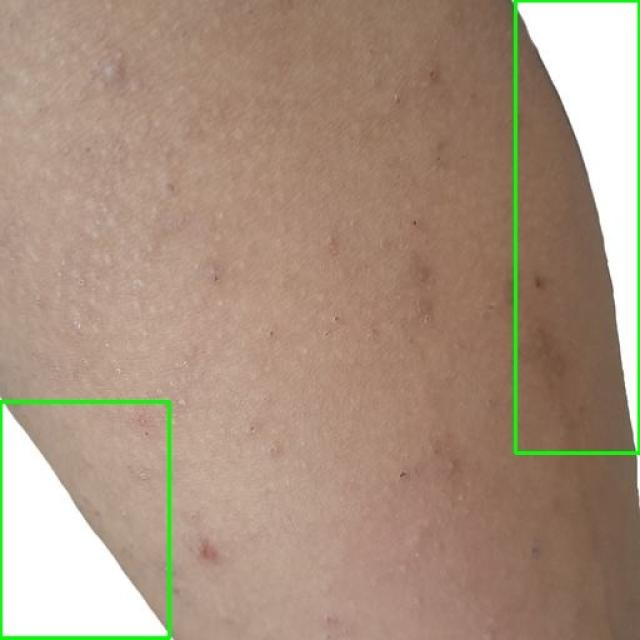Scabies: (515, 0, 639, 452), (0, 402, 170, 639)
